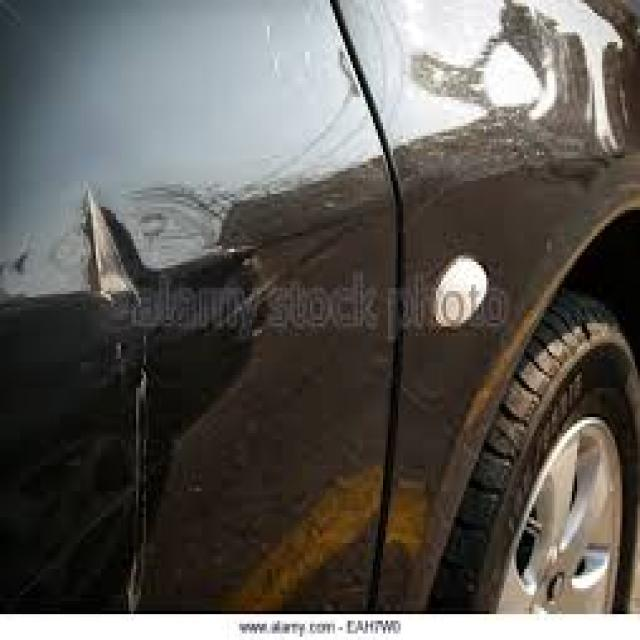minor: (60, 172, 298, 482), (459, 7, 622, 151)
